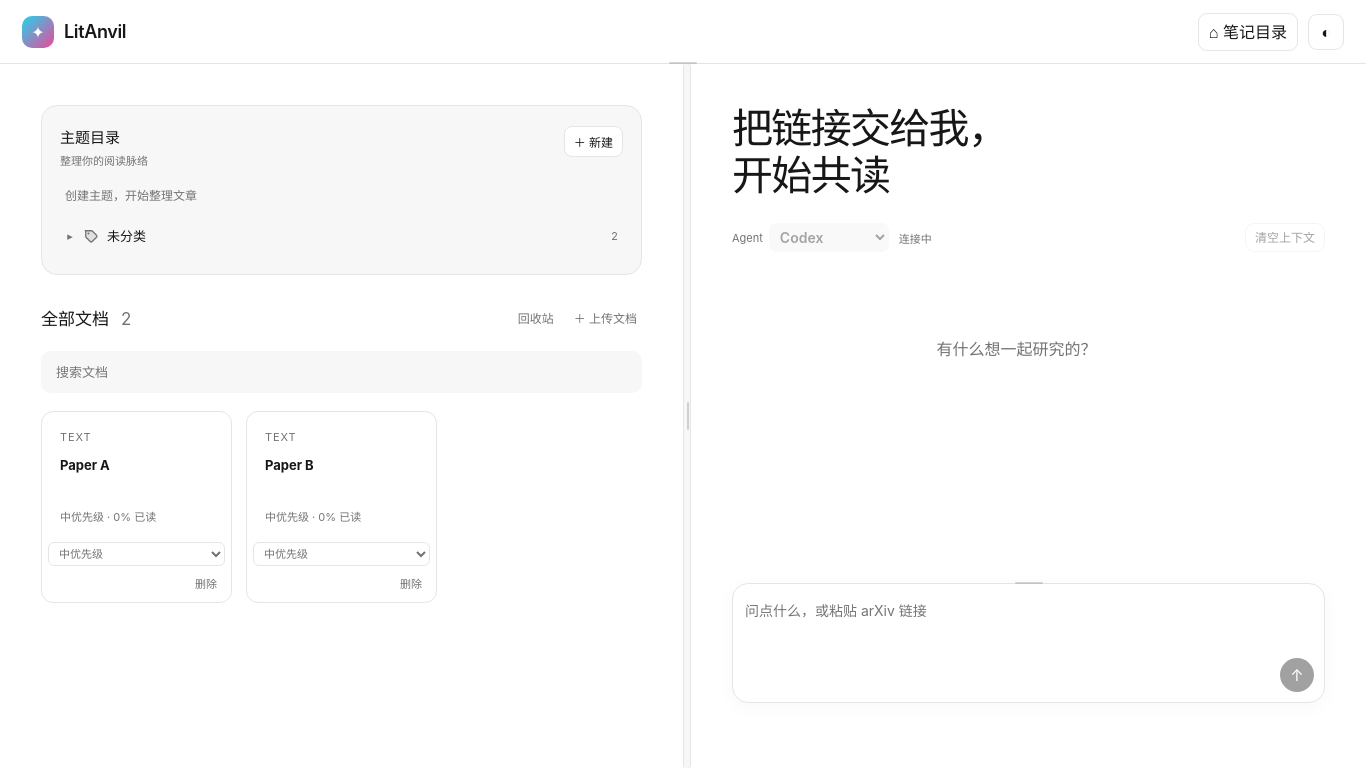
keeps library data and displays failed document deletion errors
This screenshot has width=1366, height=768.
Expected: the number of buttons with class "library-open" is 2, [42,412,231,542]; [247,412,436,542]
Click the 1st button with class "document-delete" at (206, 583), box [187,570,225,596]
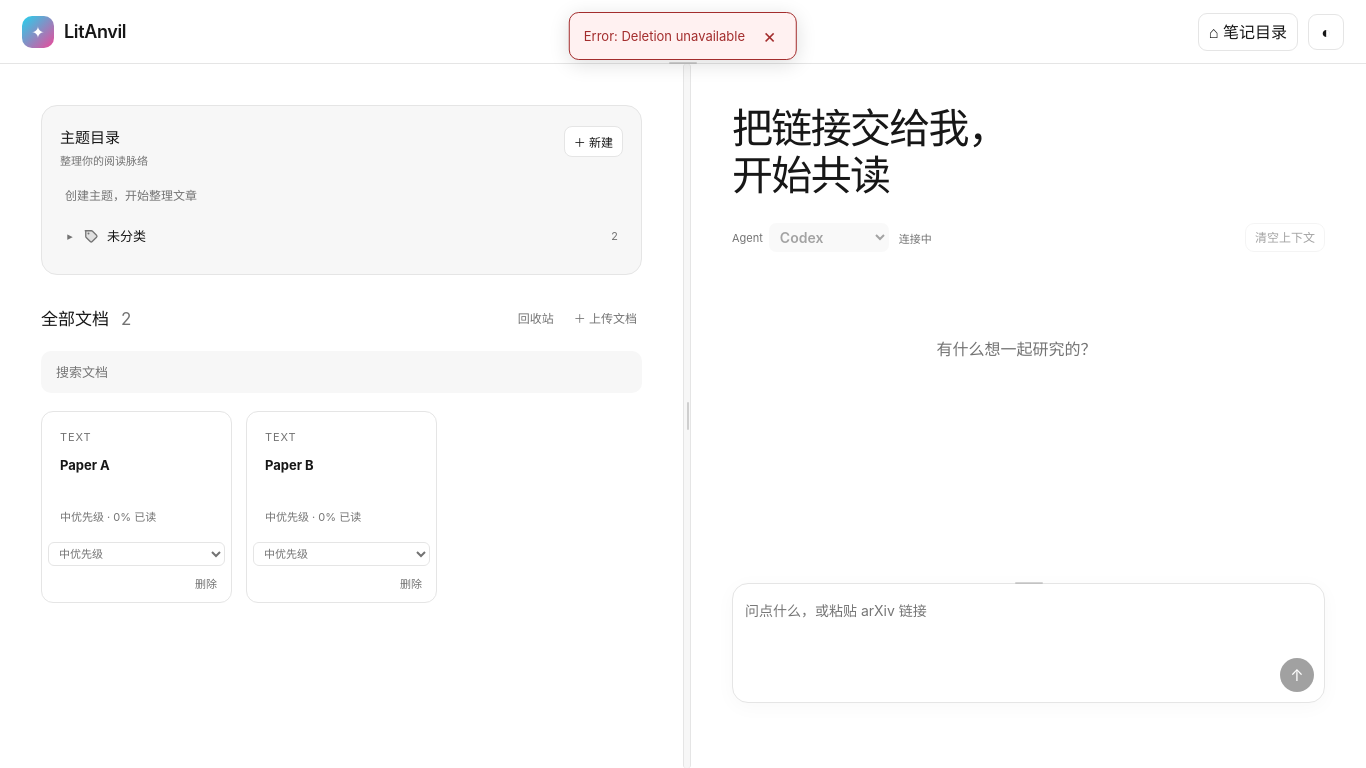
Expected: the number of buttons with class "library-open" is 2, [42,412,231,542]; [247,412,436,542]
Expected: the message "Error: Deletion unavailable ×" is shown, [569,12,797,60]
